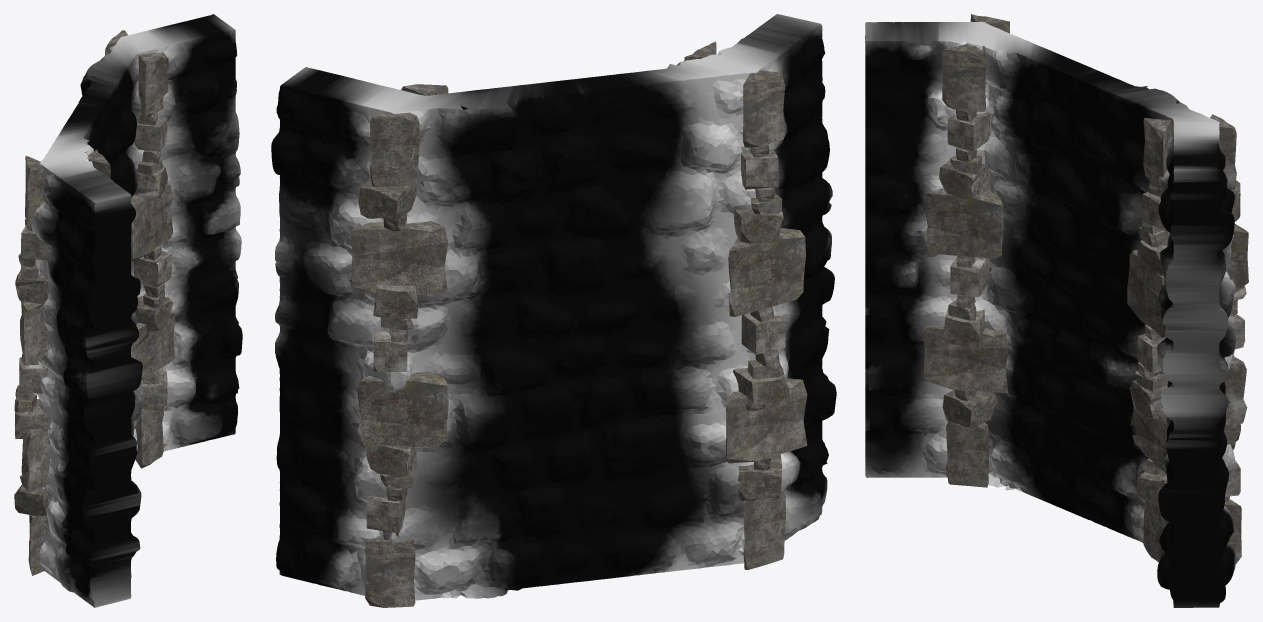
Rendered from SM_CastleTower_Wall_A_04.fbx.
3 views of the same model, side by side, from view 1: azimuth 30°, elevation 25°; view 2: azimuth 150°, elevation 25°; view 3: azimuth 270°, elevation 25° (orthographic). The views are drawn at different scales.
Visible parts, largest first — view 1: SM_CastleTower_Wall_A_04_LOD0; view 2: SM_CastleTower_Wall_A_04_LOD0; view 3: SM_CastleTower_Wall_A_04_LOD0.
Boxes of the visible parts, bbox=[...] form: SM_CastleTower_Wall_A_04_LOD0: bbox=[14, 14, 242, 607]; SM_CastleTower_Wall_A_04_LOD0: bbox=[271, 14, 836, 607]; SM_CastleTower_Wall_A_04_LOD0: bbox=[865, 14, 1248, 607].
Size of the model in its own units: 324 by 319 by 401.
